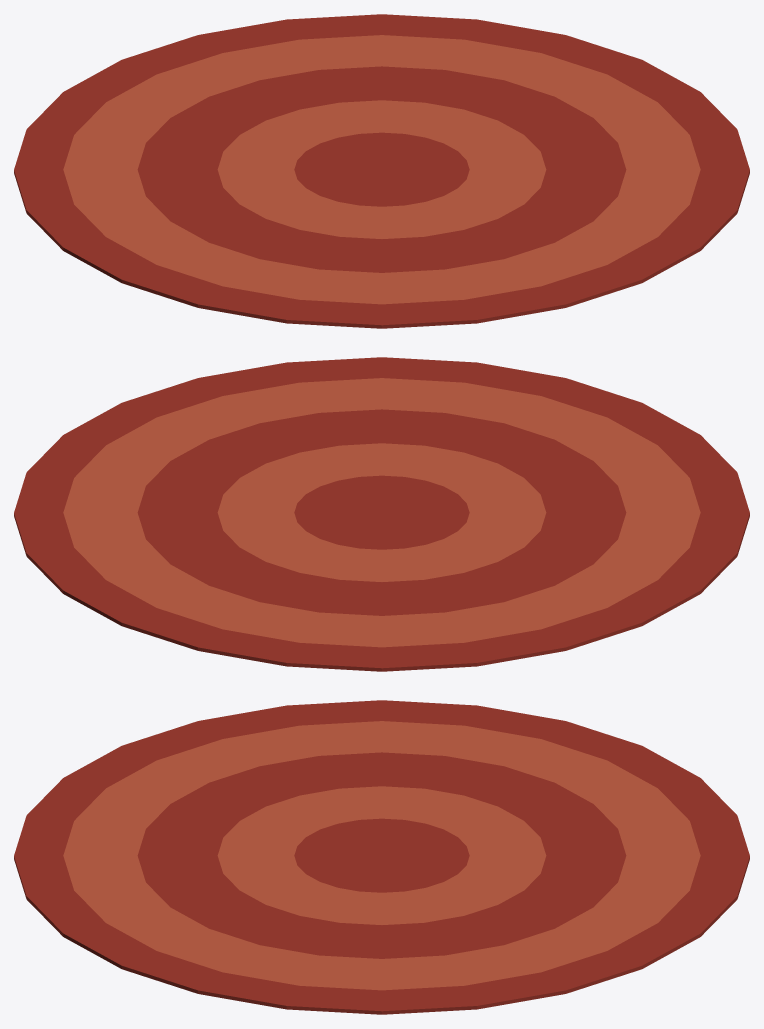
The model's file is Carpet.fbx.
3 views of the same model, one above another, from view 1: azimuth 30°, elevation 25°; view 2: azimuth 150°, elevation 25°; view 3: azimuth 270°, elevation 25° (orthographic).
Visible parts, largest first — view 1: Circle.066; view 2: Circle.066; view 3: Circle.066.
Boxes of the visible parts, x1,y1,x2,y2 form: Circle.066: (14,14,749,328); Circle.066: (14,357,749,671); Circle.066: (14,700,749,1014).
Bounding box in the file's own units: 5.48 × 5.48 × 0.0292.
